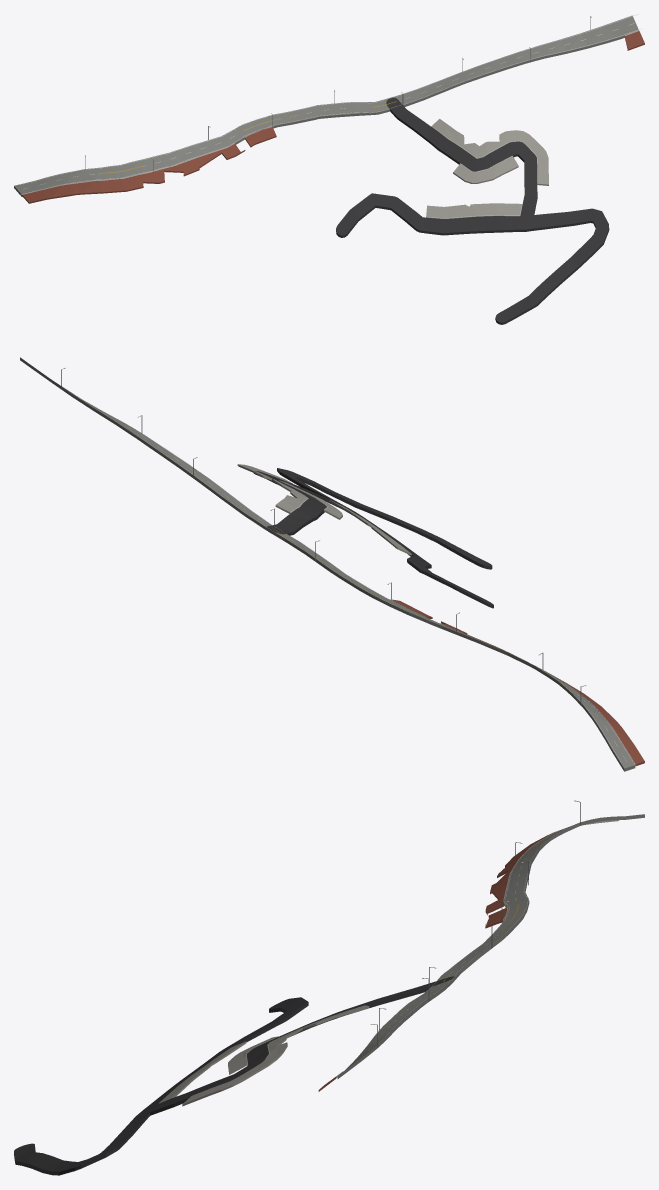
The picture shows the model from 3 angles, top to bottom: view 1: azimuth 30°, elevation 25°; view 2: azimuth 150°, elevation 25°; view 3: azimuth 270°, elevation 25°; orthographic projection. The views are drawn at different scales.
Size of the model in its own units: 298 by 94.02 by 188.
